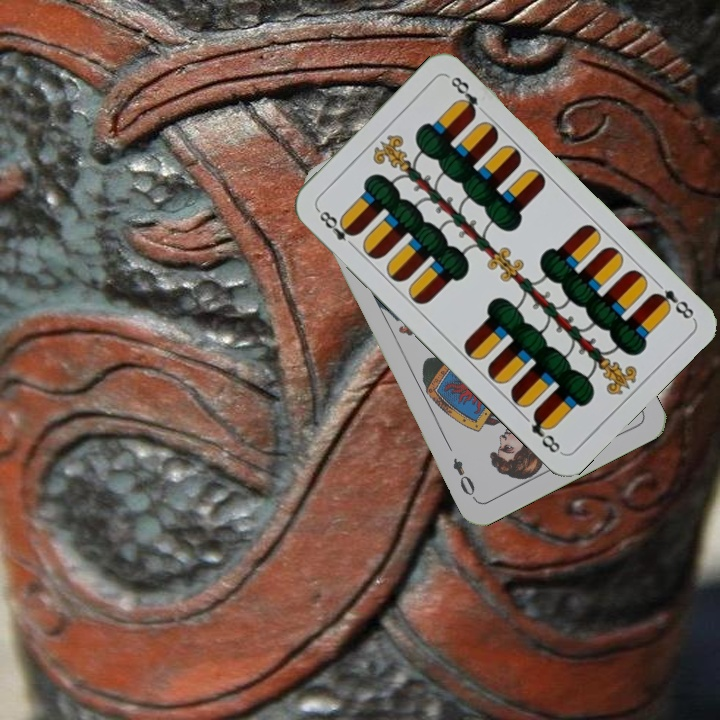E8: (313, 205, 360, 251), (648, 285, 697, 322)
